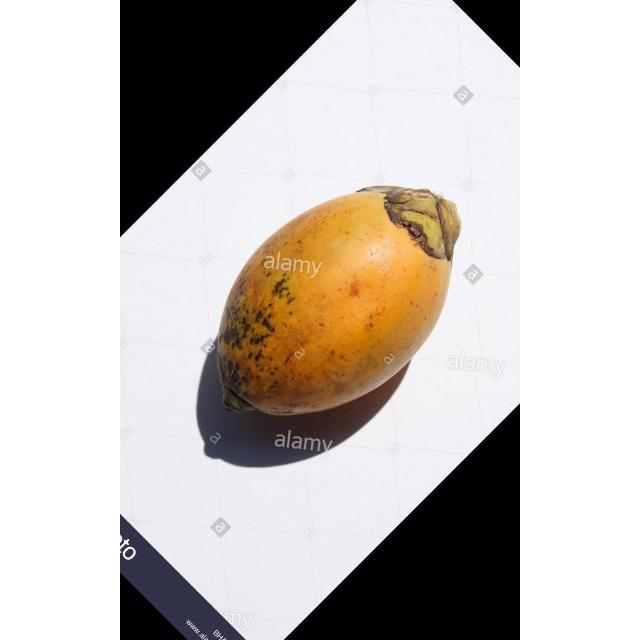good: (216, 186, 462, 419)
